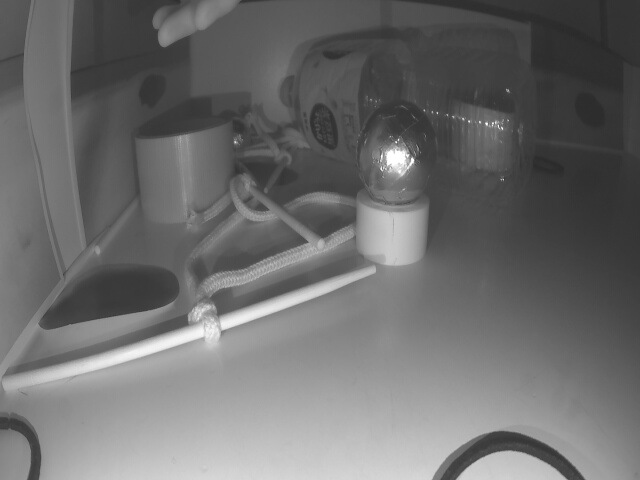Live: (357, 99, 436, 202)
